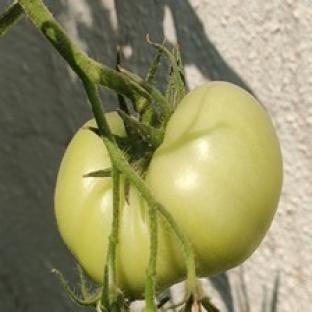Tomato: (145, 83, 282, 275), (55, 120, 112, 282)
